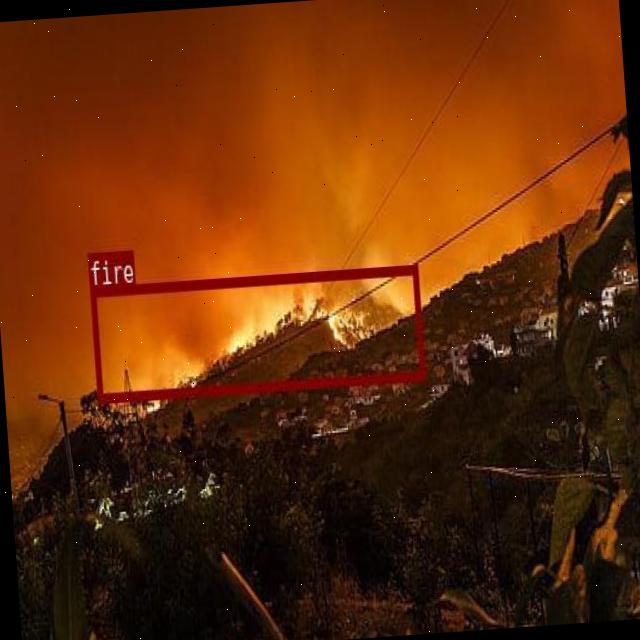fire: (89, 263, 424, 401)
